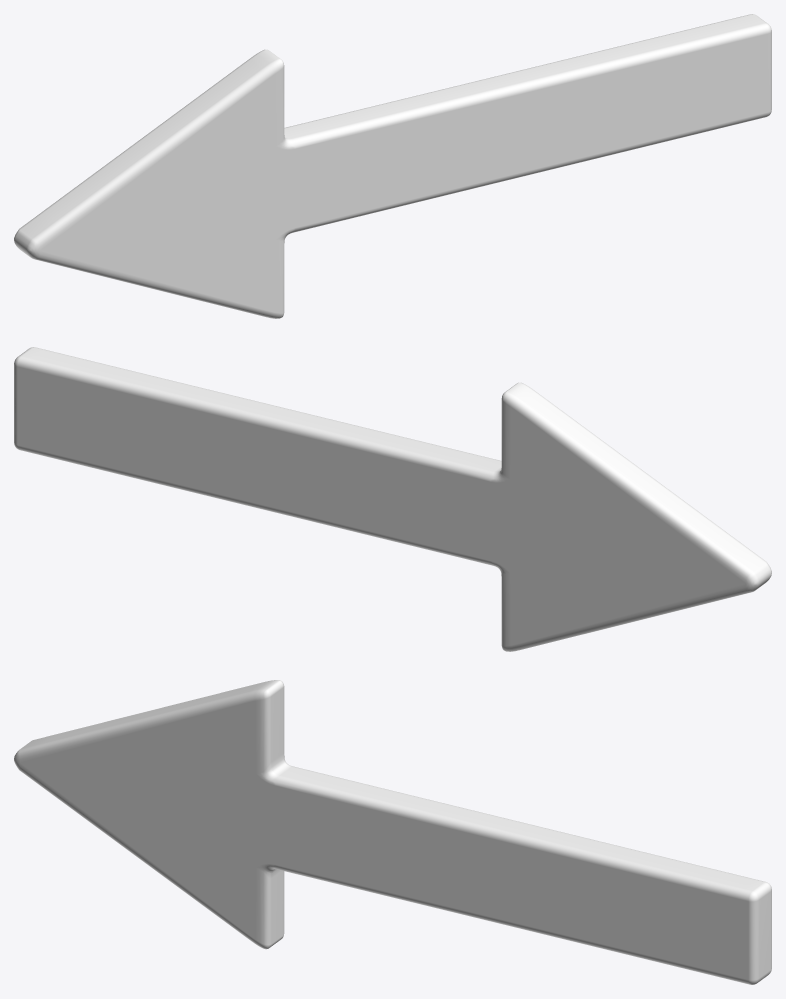
File: Flèche.fbx
3 views of the same model, one above another, from view 1: azimuth 30°, elevation 25°; view 2: azimuth 150°, elevation 25°; view 3: azimuth 330°, elevation 25° (orthographic).
Visible parts, largest first — view 1: node_id36; view 2: node_id36; view 3: node_id36.
Part boxes in pixels (box(x1,y1,x2,y2)): node_id36: box(14, 14, 771, 318); node_id36: box(14, 347, 771, 651); node_id36: box(14, 680, 771, 984).
Bounding box in the file's own units: 0.1769 × 0.059 × 0.0083.
Materials: 1 (1 with a texture image).
